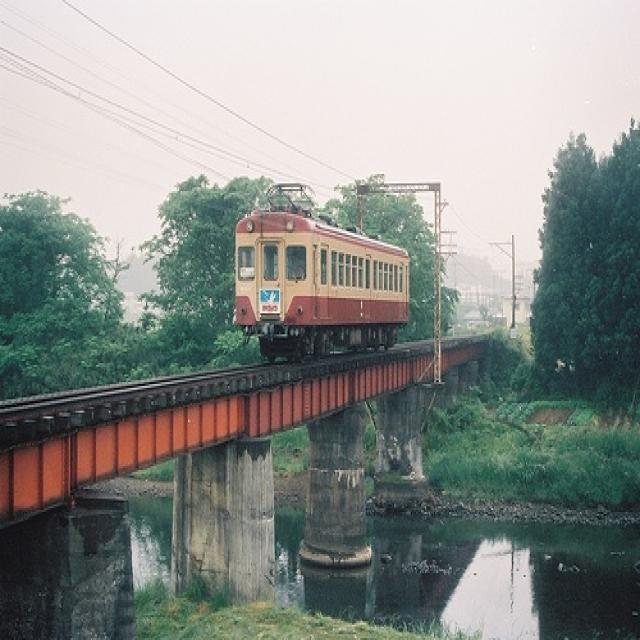train: (229, 197, 416, 365)
